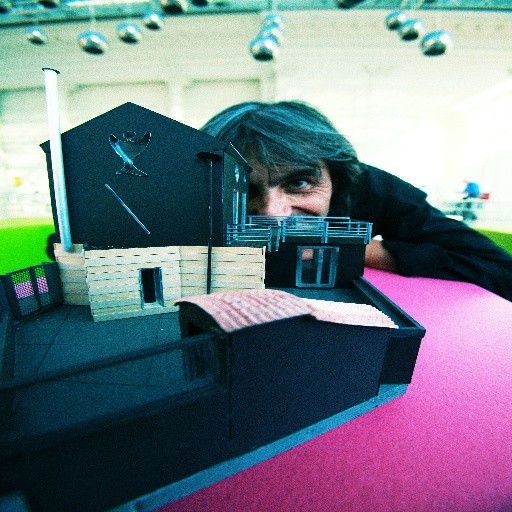hand: (303, 248, 315, 261)
